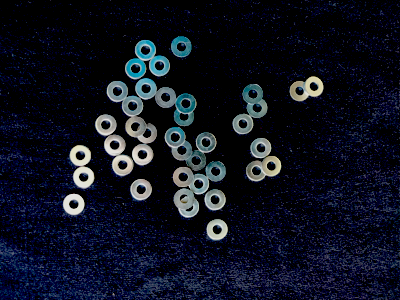circle: (110, 154, 135, 178), (69, 143, 94, 167), (72, 166, 97, 190), (63, 192, 87, 217), (261, 153, 284, 179), (250, 136, 274, 160), (206, 218, 230, 241), (204, 189, 228, 212), (175, 91, 198, 115), (154, 86, 178, 109), (134, 39, 158, 62), (95, 114, 119, 137), (105, 81, 130, 103), (247, 97, 270, 120), (171, 139, 194, 162), (131, 179, 154, 202), (242, 83, 266, 105), (171, 36, 195, 58), (185, 149, 207, 173), (135, 78, 159, 100), (120, 96, 145, 117), (233, 113, 256, 135), (246, 159, 268, 182), (205, 160, 228, 182), (189, 173, 211, 196), (136, 122, 158, 145), (132, 143, 154, 166), (290, 80, 312, 102), (165, 127, 187, 149), (125, 116, 147, 138), (196, 131, 217, 154), (174, 188, 195, 211), (125, 58, 148, 79), (149, 55, 172, 76), (104, 135, 127, 156), (179, 197, 200, 219), (173, 106, 195, 127), (304, 76, 324, 98), (174, 167, 194, 188)
